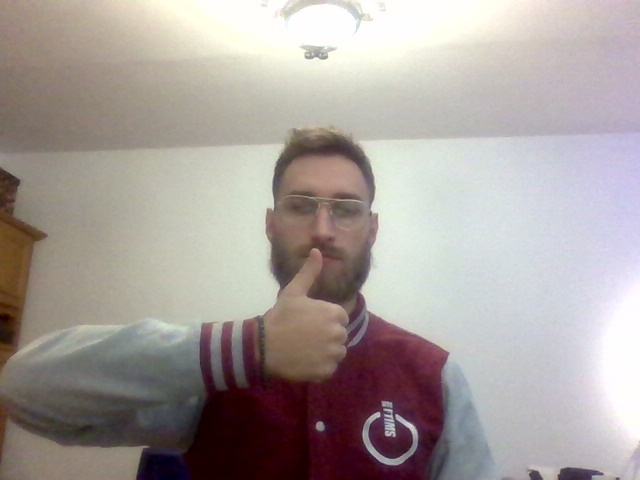ThumbsUp: (274, 248, 349, 382)
